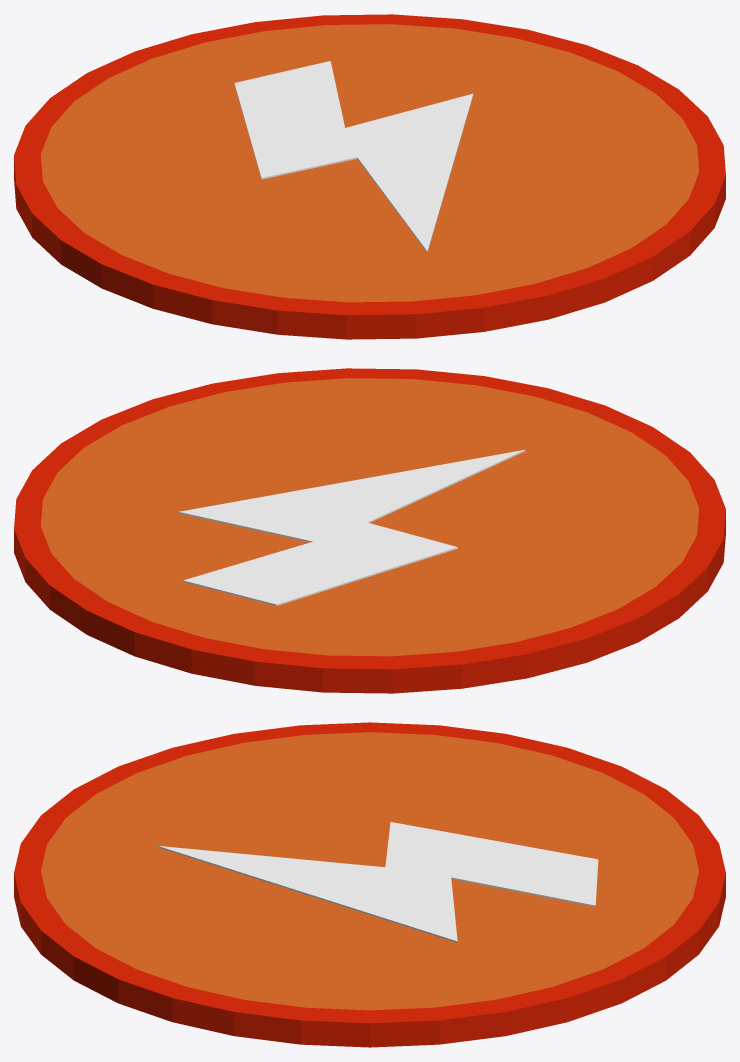
The model's file is Lightning mark.fbx.
3 views of the same model, one above another, from view 1: azimuth 30°, elevation 25°; view 2: azimuth 150°, elevation 25°; view 3: azimuth 270°, elevation 25° (orthographic).
Parts seen in each view (by area): view 1: Cylinder, Plane; view 2: Cylinder, Plane; view 3: Cylinder, Plane.
Part boxes in pixels (<box>): Cylinder: <box>14,14,725,339</box>; Plane: <box>234,61,473,252</box>; Cylinder: <box>14,368,725,693</box>; Plane: <box>178,450,525,605</box>; Cylinder: <box>14,722,725,1047</box>; Plane: <box>157,822,598,942</box>.
Bounding box in the file's own units: 400 × 17 × 400.
